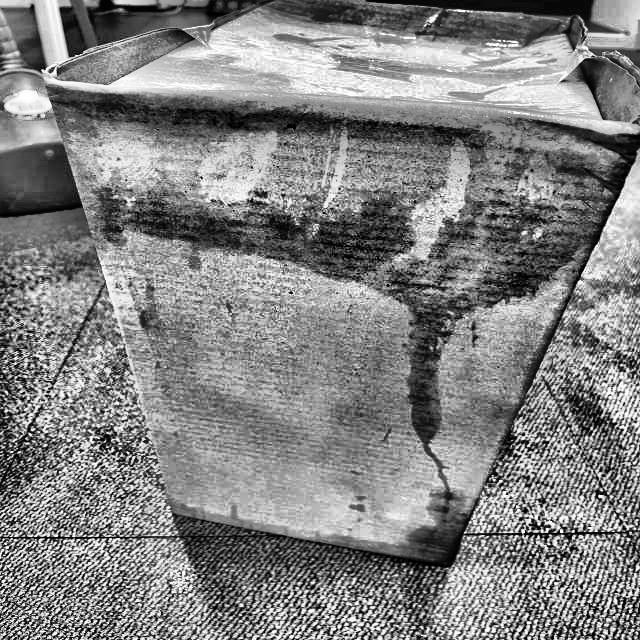box: (43, 2, 639, 572)
wet: (92, 53, 616, 307)
